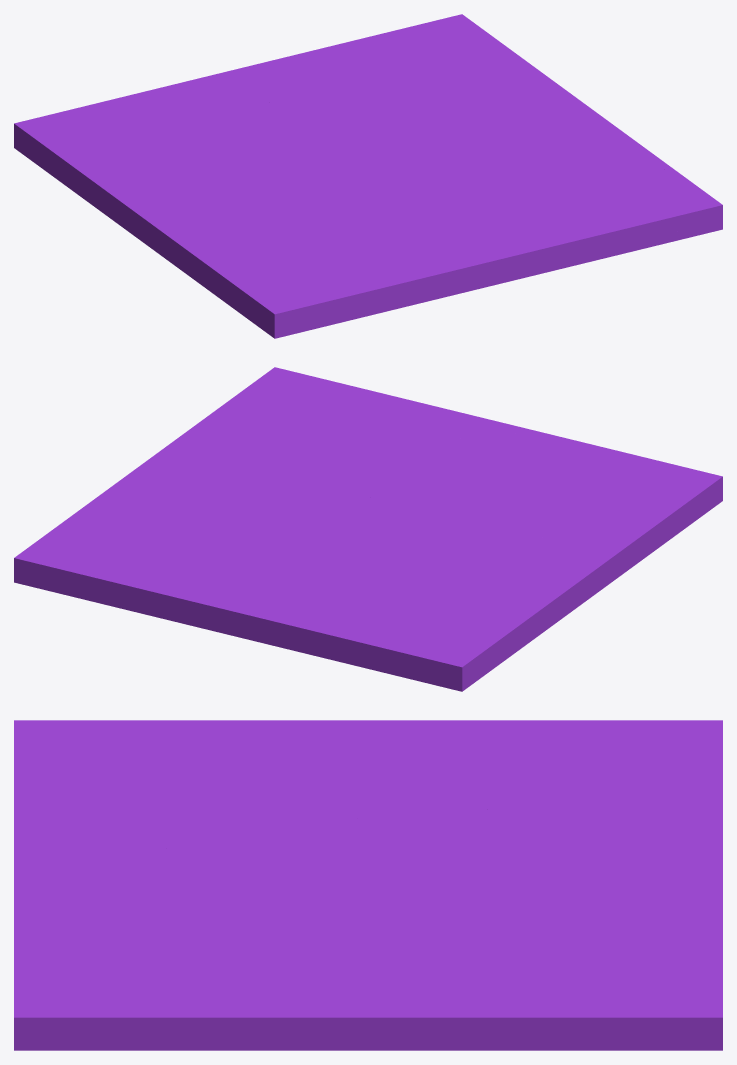
File: Window_178_chunks.fbx
3 renders of one model, top to bottom at view 1: azimuth 30°, elevation 25°; view 2: azimuth 150°, elevation 25°; view 3: azimuth 270°, elevation 25°, orthographic. The views are drawn at different scales.
Visible parts, largest first — view 1: Window_178_22, Window_178_15, Window_178_6, Window_178_39, Window_178_18, Window_178_8, Window_178_17, Window_178_4, Window_178_1, Window_178_29, Window_178_28, Window_178_40 (+27 smaller); view 2: Window_178_29, Window_178_39, Window_178_22, Window_178_40, Window_178_26, Window_178_15, Window_178_6, Window_178_4, Window_178_1, Window_178_8, Window_178_28, Window_178_18 (+26 smaller); view 3: Window_178_39, Window_178_18, Window_178_15, Window_178_6, Window_178_1, Window_178_8, Window_178_46, Window_178_29, Window_178_28, Window_178_22, Window_178_40, Window_178_4 (+27 smaller).
Part boxes in pixels (left/top/right/bottom): Window_178_22: left=61, top=161, right=205, bottom=244; Window_178_15: left=404, top=167, right=553, bottom=224; Window_178_6: left=233, top=158, right=395, bottom=237; Window_178_39: left=357, top=14, right=526, bottom=75; Window_178_18: left=546, top=168, right=722, bottom=244; Window_178_8: left=354, top=217, right=488, bottom=302; Window_178_17: left=531, top=197, right=704, bottom=255; Window_178_4: left=180, top=248, right=302, bottom=316; Window_178_1: left=229, top=110, right=356, bottom=196; Window_178_29: left=111, top=63, right=292, bottom=120; Window_178_28: left=47, top=116, right=215, bottom=173; Window_178_40: left=261, top=40, right=416, bottom=100; Window_178_29: left=208, top=578, right=376, bottom=662; Window_178_39: left=14, top=510, right=162, bottom=604; Window_178_22: left=486, top=554, right=616, bottom=656; Window_178_40: left=106, top=543, right=233, bottom=624; Window_178_26: left=345, top=620, right=511, bottom=691; Window_178_15: left=288, top=433, right=443, bottom=502; Window_178_6: left=361, top=494, right=554, bottom=540; Window_178_4: left=585, top=474, right=722, bottom=558; Window_178_1: left=288, top=524, right=480, bottom=571; Window_178_8: left=443, top=431, right=602, bottom=478; Window_178_28: left=365, top=576, right=515, bottom=644; Window_178_18: left=226, top=367, right=342, bottom=449; Window_178_39: left=545, top=947, right=722, bottom=1050; Window_178_18: left=14, top=938, right=235, bottom=1050; Window_178_15: left=128, top=866, right=335, bottom=954; Window_178_6: left=213, top=767, right=393, bottom=880; Window_178_1: left=343, top=800, right=561, bottom=875; Window_178_8: left=14, top=790, right=176, bottom=883; Window_178_46: left=146, top=995, right=373, bottom=1050; Window_178_29: left=606, top=784, right=722, bottom=882; Window_178_28: left=487, top=720, right=648, bottom=812; Window_178_22: left=302, top=720, right=576, bottom=773; Window_178_40: left=540, top=883, right=722, bottom=952; Window_178_4: left=14, top=720, right=259, bottom=769.
Size of the model in its own units: 1165 by 60.81 by 1174.
